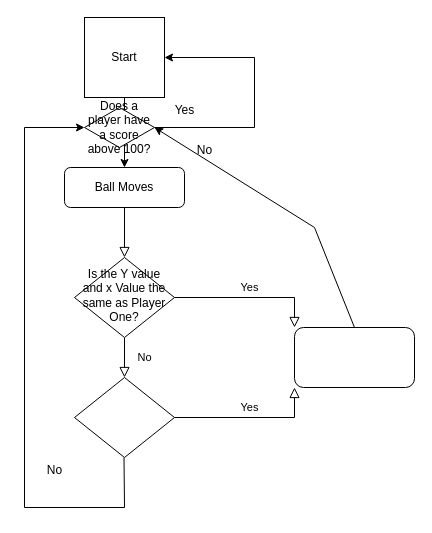
Some shapes in this 432 by 533 pixel diagram are drawn without their labels. The centre of each missing label's shape, as x and y in pixels:
"Does the Ball have the same x & y value of player two?" goes at pixel 124 417.
"Reverse Speed" goes at pixel 354 357.
